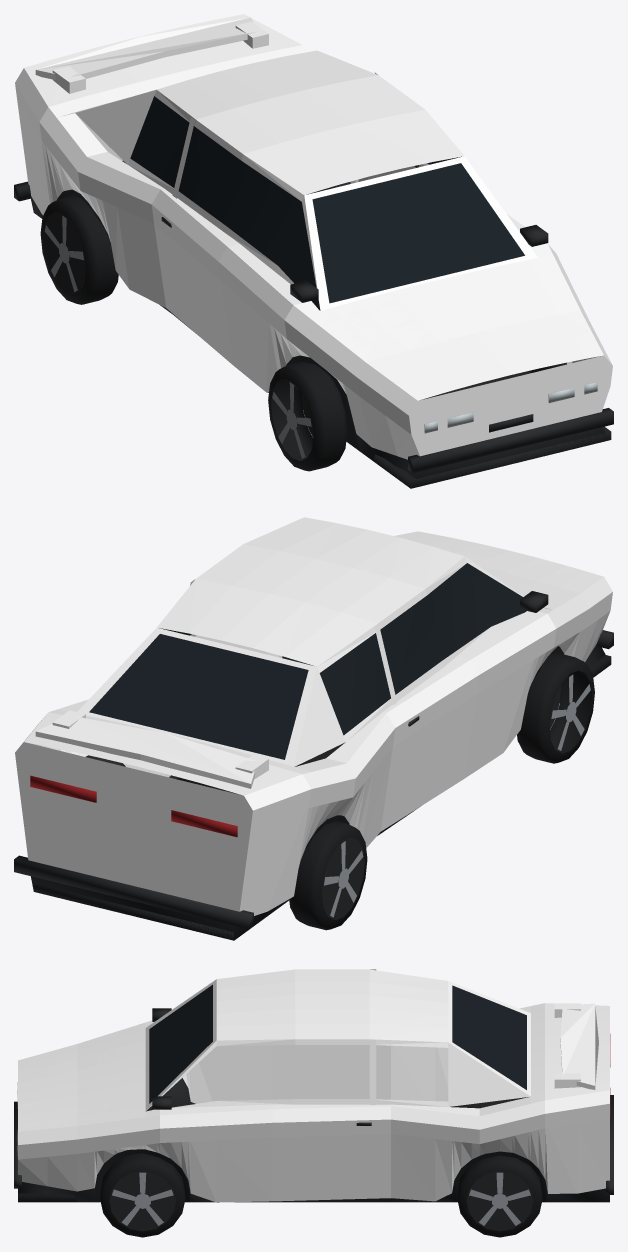
File: volnar_dobra.glb
The picture shows the model from 3 angles, top to bottom: view 1: azimuth 30°, elevation 25°; view 2: azimuth 150°, elevation 25°; view 3: azimuth 270°, elevation 25°; orthographic projection. The views are drawn at different scales.
Parts seen in each view (by area): view 1: Body_Paint, Body_Details, Mount_FrontLeft_Wheel_Details, Mount_RearLeft_Wheel_Details; view 2: Body_Paint, Body_Details, Mount_FrontLeft_Wheel_Details, Mount_RearLeft_Wheel_Details; view 3: Body_Paint, Body_Details, Mount_FrontRight_Wheel_Details, Mount_RearRight_Wheel_Details.
Part boxes in pixels (x1=…): Body_Paint: x1=15, y1=14, x2=612, y2=459; Body_Details: x1=14, y1=96, x2=613, y2=488; Mount_FrontLeft_Wheel_Details: x1=268, y1=361, x2=347, y2=471; Mount_RearLeft_Wheel_Details: x1=40, y1=195, x2=118, y2=304; Body_Paint: x1=15, y1=517, x2=612, y2=915; Body_Details: x1=14, y1=563, x2=613, y2=940; Mount_FrontLeft_Wheel_Details: x1=517, y1=652, x2=594, y2=763; Mount_RearLeft_Wheel_Details: x1=289, y1=821, x2=367, y2=930; Body_Paint: x1=18, y1=969, x2=609, y2=1202; Body_Details: x1=14, y1=984, x2=613, y2=1202; Mount_FrontRight_Wheel_Details: x1=100, y1=1153, x2=185, y2=1237; Mount_RearRight_Wheel_Details: x1=457, y1=1155, x2=542, y2=1237.
Bounding box in the file's own units: 1.72 × 1.38 × 4.07.
2 materials, 1 textured.
